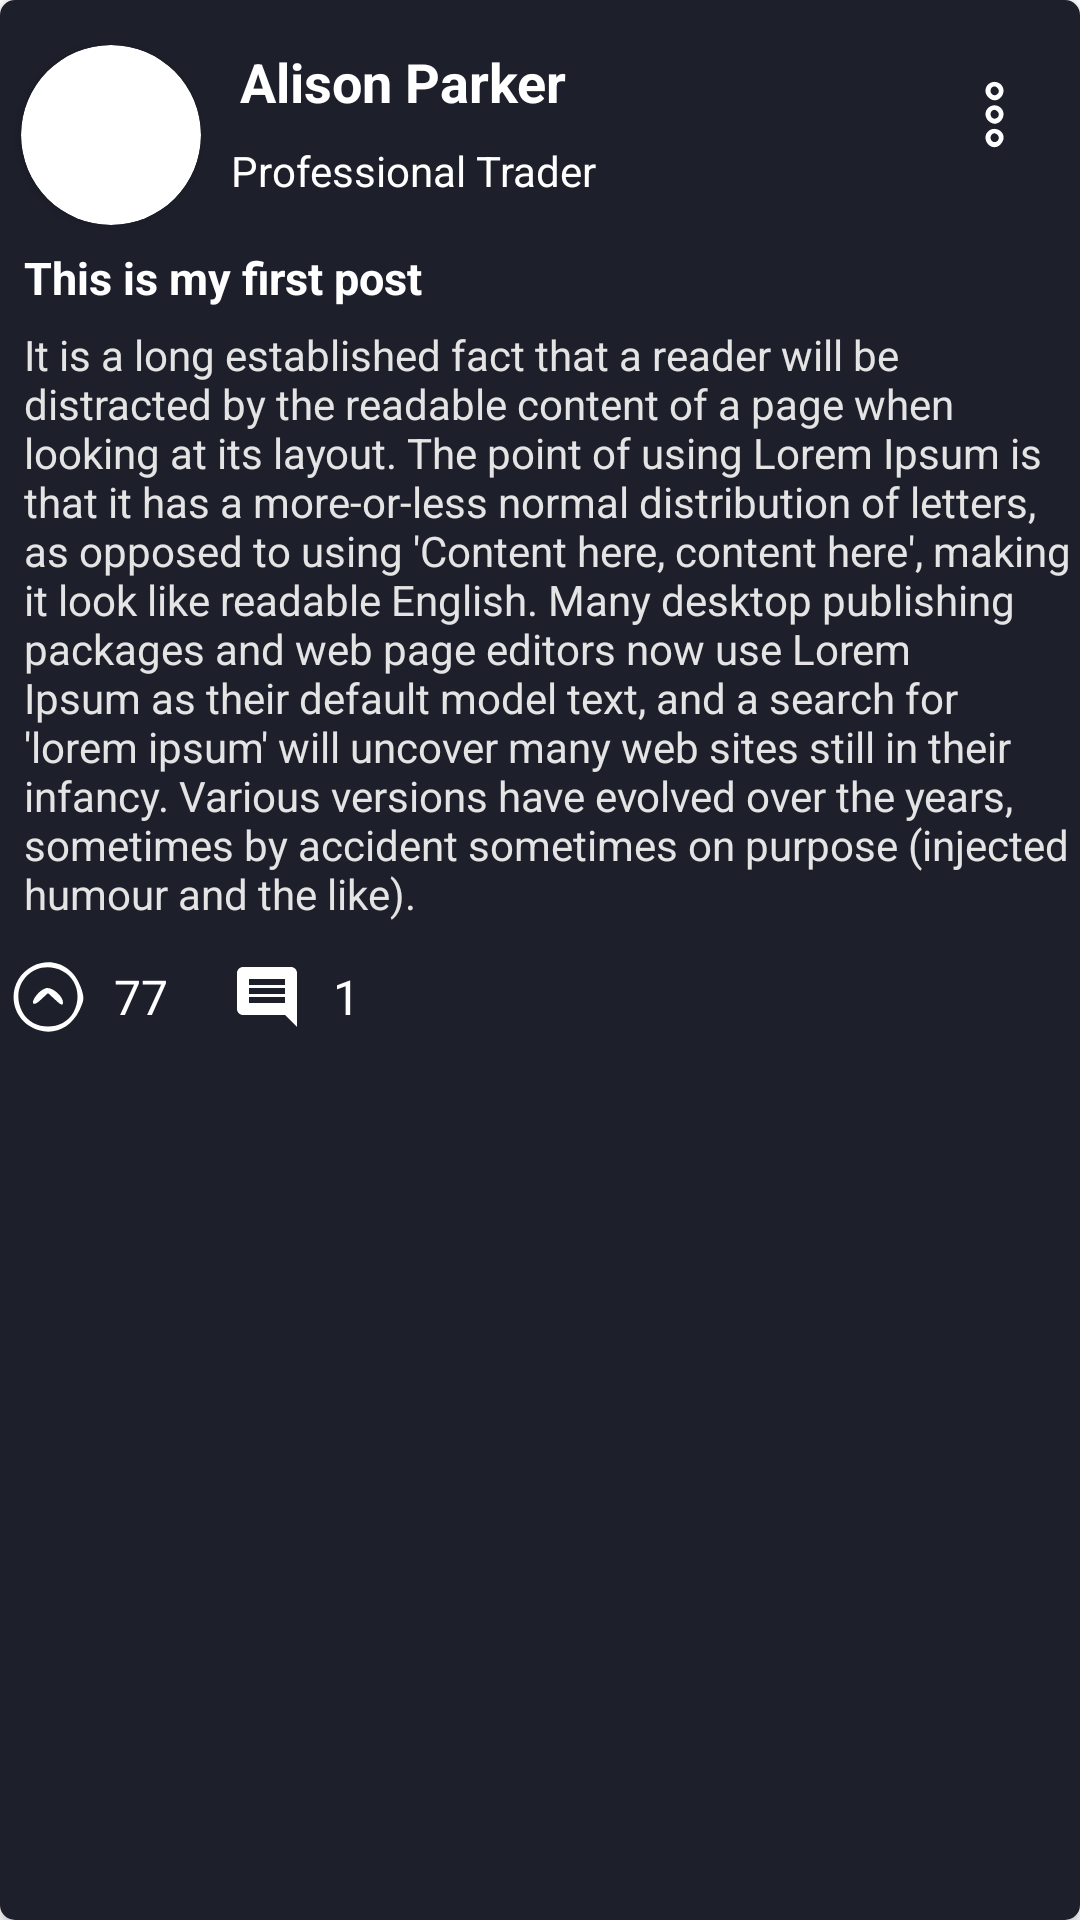

Locate icon controls on the screen. Image size 1080 × 1920, boxes as box(x1, y1, x2, y2).
option: box(985, 81, 1004, 148)
